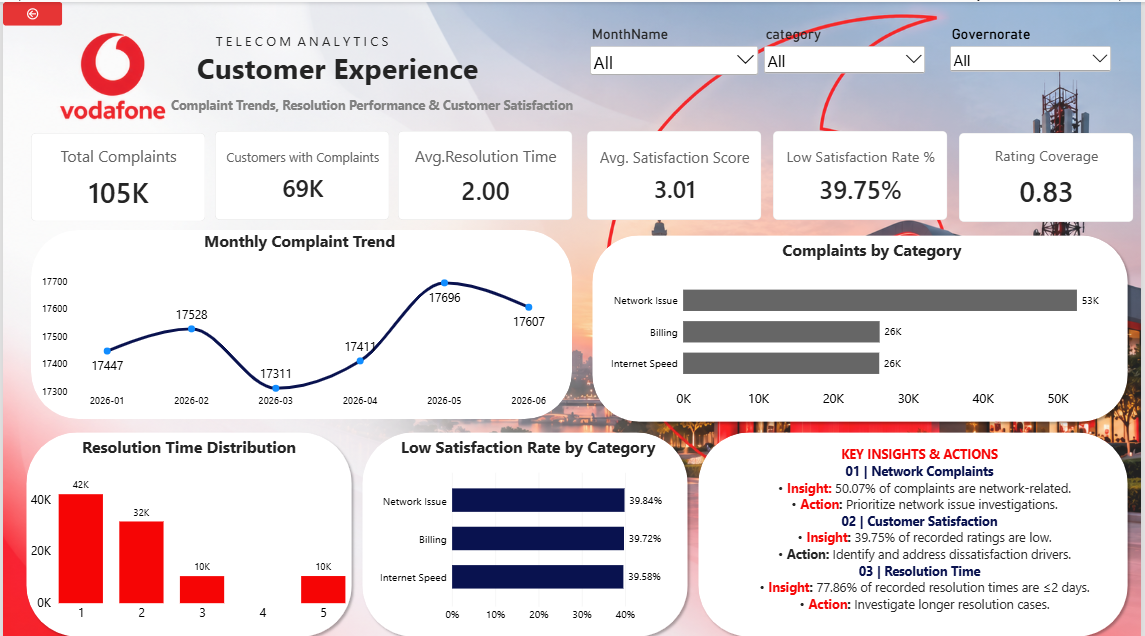

The page's visual inventory and layout, read from the dashboard file:
{"tool":"powerbi","page":{"name":"Customer Experience","canvas":[1920,1080],"ordinal":5},"visuals":[{"type":"textbox","box":[283.5,50.6,442.1,54],"z":0},{"type":"textbox","box":[327.4,77.6,632.8,81],"z":1000},{"type":"textbox","box":[283.5,158.6,740.8,59.1],"z":2000},{"type":"cardVisual","fields":{"Data":["DAXX Measures.Total Complaints"]},"box":[47.6,221.1,294.2,149.7],"z":3000},{"type":"cardVisual","fields":{"Data":["DAXX Measures.Customers with Complaints"]},"box":[357.1,217.7,294,150.2],"z":4000},{"type":"cardVisual","fields":{"Data":["DAXX Measures.Avg.Resolution Time"]},"box":[666.6,217.7,294,150.2],"z":5000},{"type":"cardVisual","fields":{"Data":["DAXX Measures.Avg. Satisfaction Score"]},"box":[984.7,217.7,294,150.2],"z":6000},{"type":"cardVisual","fields":{"Data":["DAXX Measures.Low Satisfaction Rate %"]},"box":[1299.3,217.7,294,150.2],"z":7000},{"type":"shape","box":[47.2,384.8,912.9,318.9],"z":8000},{"type":"textbox","box":[0,384.8,1000.7,57.4],"z":9000},{"type":"cardVisual","fields":{"Data":["DAXX Measures.Rating Coverage"]},"box":[1613.9,221.1,294,150.2],"z":10000},{"type":"shape","box":[985.5,384.8,921.4,332.4],"z":11000},{"type":"textbox","box":[1079.9,399.6,772.1,62.9],"z":12000},{"type":"shape","box":[30.4,717.2,567,362.8],"z":13000},{"type":"textbox","box":[72.6,732.4,482.6,40.5],"z":14000},{"type":"lineChart","fields":{"Category":["DimDate.YearMonth"],"Y":["DAXX Measures.Total Complaints"]},"box":[48.9,442.1,911.2,261.6],"z":15000},{"type":"clusteredBarChart","fields":{"Category":["FactComplaints.category"],"Y":["DAXX Measures.Total Complaints"]},"box":[1000.7,442.1,882.6,261.6],"z":16000},{"type":"clusteredColumnChart","fields":{"Category":["FactComplaints.resolution_days"],"Y":["DAXX Measures.Total Complaints"]},"box":[30.4,772.9,567,293.6],"z":17000},{"type":"shape","box":[597.4,717.2,567,362.8],"z":18000},{"type":"textbox","box":[626.1,732.4,519.8,74.2],"z":19000},{"type":"clusteredBarChart","fields":{"Category":["FactComplaints.category"],"Y":["DAXX Measures.Low Satisfaction Rate %"]},"box":[610.9,772.9,534.9,293.6],"z":20000},{"type":"shape","box":[1164.4,717.2,742.5,362.8],"z":21000},{"type":"textbox","box":[1209.9,691.9,673.3,388.1],"z":22000},{"type":"actionButton","box":[0,0,100,40],"z":22001},{"type":"slicer","fields":{"Values":["DimDate.MonthName"]},"box":[985.5,40.5,293.6,102.9],"z":22002},{"type":"slicer","fields":{"Values":["FactComplaints.category"]},"box":[1279.1,40.5,281.8,91.1],"z":22003},{"type":"slicer","fields":{"Values":["DimSubscriber.Governorate"]},"box":[1593,40.5,281.8,101.2],"z":22004}]}

Visuals, with their boxes in screenshot pixels (x1, y1, x2, y2), scaled from the page's 1920x1080 canvas onto the 1145x636 screenshot:
textbox: (x1=169, y1=30, x2=433, y2=62)
textbox: (x1=195, y1=46, x2=573, y2=93)
textbox: (x1=169, y1=93, x2=611, y2=128)
cardVisual - DAXX Measures.Total Complaints: (x1=28, y1=130, x2=204, y2=218)
cardVisual - DAXX Measures.Customers with Complaints: (x1=213, y1=128, x2=388, y2=217)
cardVisual - DAXX Measures.Avg.Resolution Time: (x1=398, y1=128, x2=573, y2=217)
cardVisual - DAXX Measures.Avg. Satisfaction Score: (x1=587, y1=128, x2=763, y2=217)
cardVisual - DAXX Measures.Low Satisfaction Rate %: (x1=775, y1=128, x2=950, y2=217)
shape: (x1=28, y1=227, x2=573, y2=414)
textbox: (x1=0, y1=227, x2=597, y2=260)
cardVisual - DAXX Measures.Rating Coverage: (x1=962, y1=130, x2=1138, y2=219)
shape: (x1=588, y1=227, x2=1137, y2=422)
textbox: (x1=644, y1=235, x2=1104, y2=272)
shape: (x1=18, y1=422, x2=356, y2=635)
textbox: (x1=43, y1=431, x2=331, y2=455)
lineChart - DimDate.YearMonth x DAXX Measures.Total Complaints: (x1=29, y1=260, x2=573, y2=414)
clusteredBarChart - FactComplaints.category x DAXX Measures.Total Complaints: (x1=597, y1=260, x2=1123, y2=414)
clusteredColumnChart - FactComplaints.resolution_days x DAXX Measures.Total Complaints: (x1=18, y1=455, x2=356, y2=628)
shape: (x1=356, y1=422, x2=694, y2=635)
textbox: (x1=373, y1=431, x2=683, y2=475)
clusteredBarChart - FactComplaints.category x DAXX Measures.Low Satisfaction Rate %: (x1=364, y1=455, x2=683, y2=628)
shape: (x1=694, y1=422, x2=1137, y2=635)
textbox: (x1=722, y1=407, x2=1123, y2=635)
actionButton: (x1=0, y1=0, x2=60, y2=24)
slicer - DimDate.MonthName: (x1=588, y1=24, x2=763, y2=84)
slicer - FactComplaints.category: (x1=763, y1=24, x2=931, y2=77)
slicer - DimSubscriber.Governorate: (x1=950, y1=24, x2=1118, y2=83)
